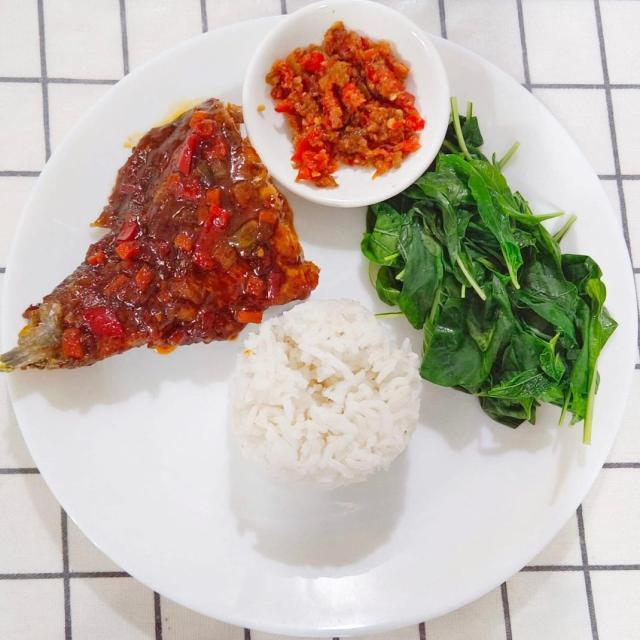Fish: (0, 96, 321, 374)
Plate: (11, 44, 633, 628)
Rice: (228, 297, 422, 564)
Vegetables: (363, 93, 620, 447)
